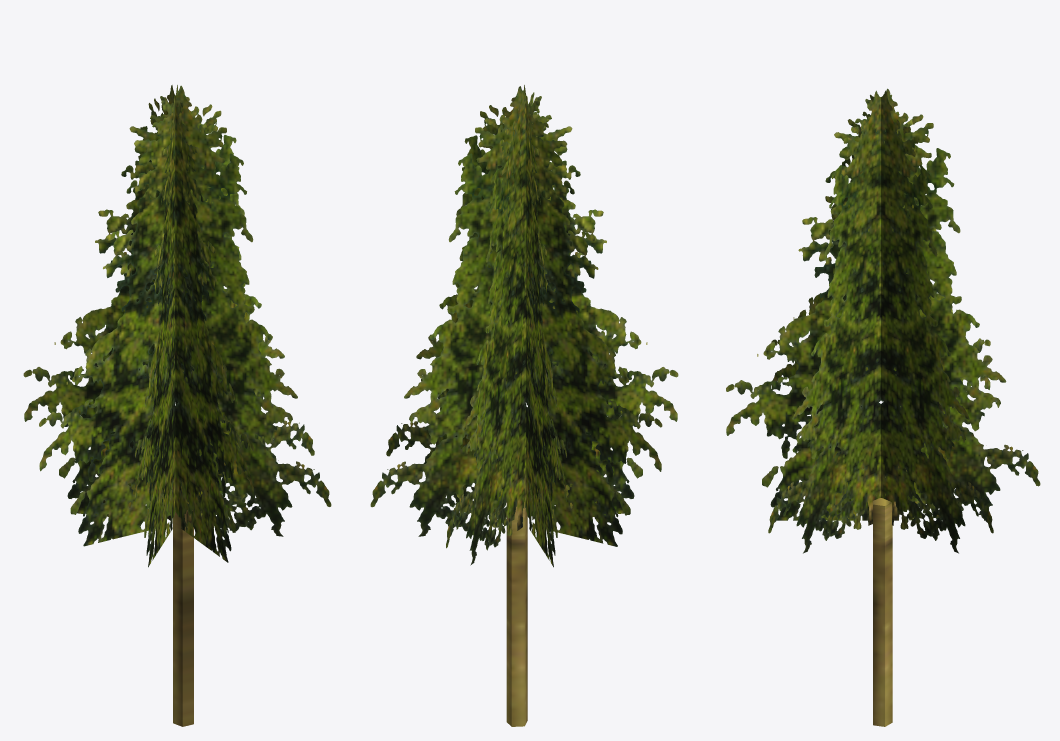
The model's file is Tree3.fbx.
The picture shows the model from 3 angles, left to right: view 1: azimuth 30°, elevation 25°; view 2: azimuth 150°, elevation 25°; view 3: azimuth 270°, elevation 25°; orthographic projection.
Parts seen in each view (by area): view 1: Tree3; view 2: Tree3; view 3: Tree3.
Boxes of the visible parts, x1,y1,x2,y2 form: Tree3: (23, 85, 331, 726); Tree3: (370, 85, 678, 726); Tree3: (726, 88, 1040, 726).
Bounding box in the file's own units: 1148 × 2441 × 1148.
